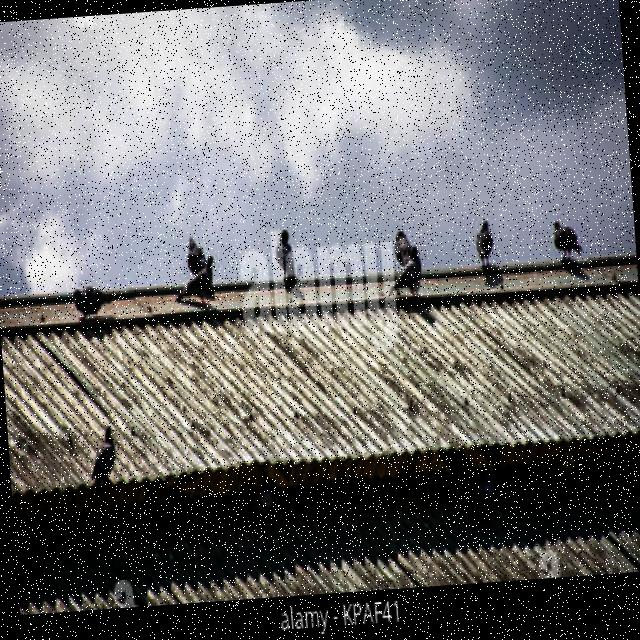bird: (172, 255, 218, 308), (86, 426, 118, 492), (392, 246, 424, 298), (552, 217, 584, 262), (473, 219, 495, 271), (185, 235, 207, 276), (392, 228, 414, 268)
